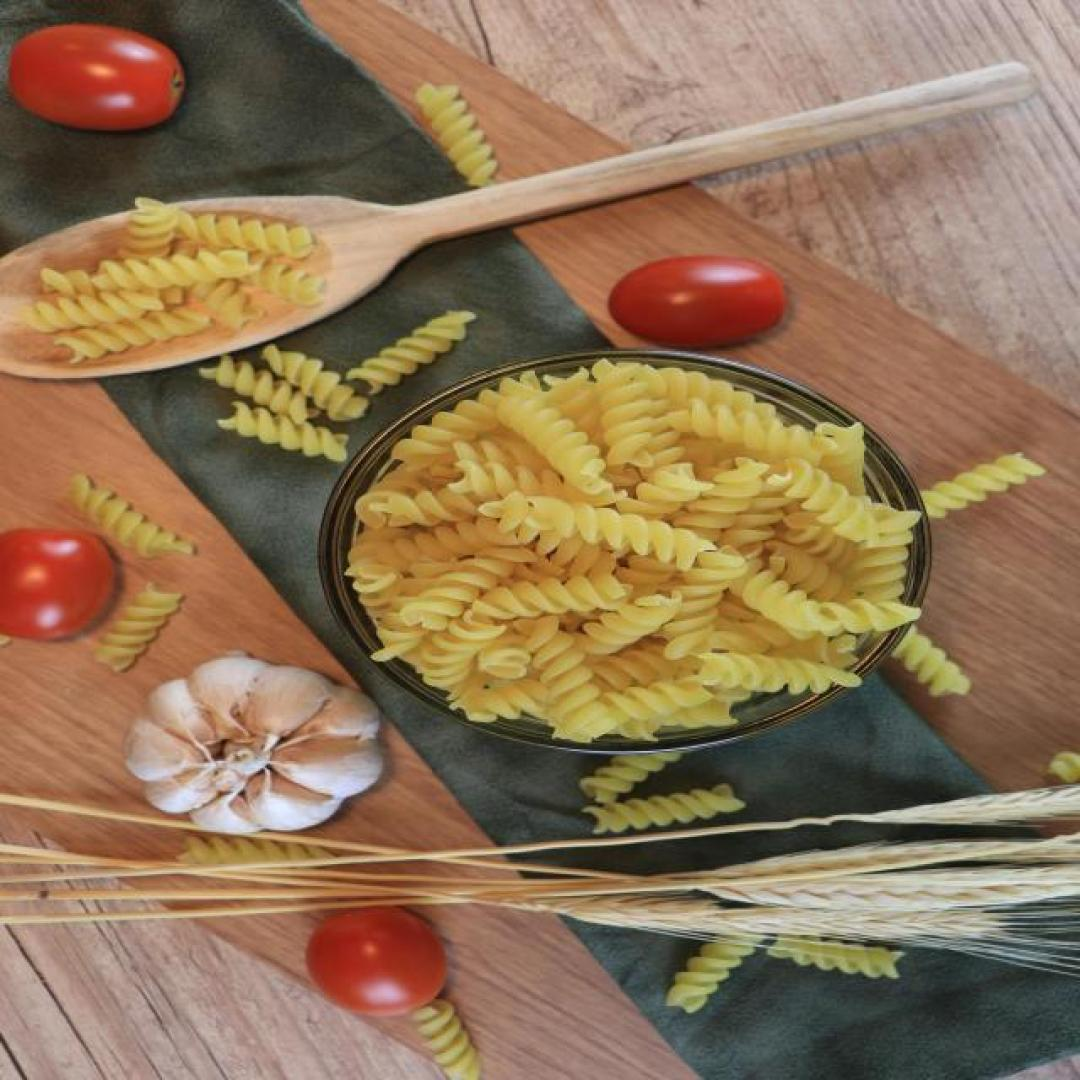matang: (9, 20, 188, 135), (304, 901, 449, 1019), (606, 256, 784, 346), (0, 525, 115, 641)
